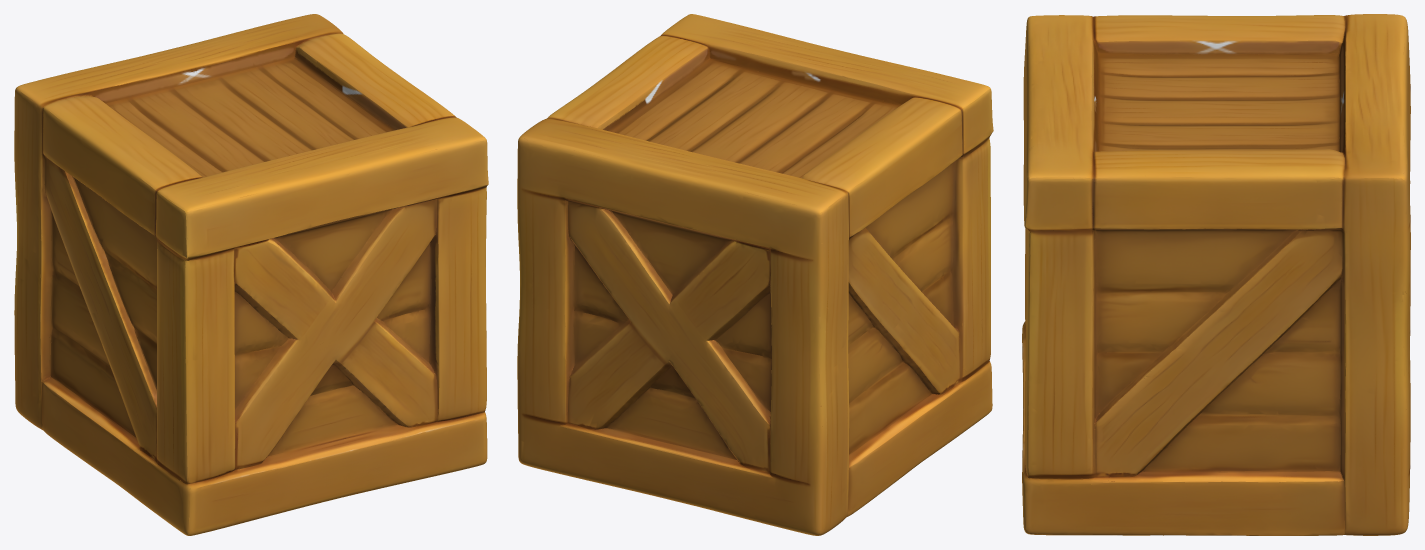
The model's file is base_basic_pbr.fbx.
The picture shows the model from 3 angles, left to right: view 1: azimuth 30°, elevation 25°; view 2: azimuth 150°, elevation 25°; view 3: azimuth 270°, elevation 25°; orthographic projection. The views are drawn at different scales.
Visible parts, largest first — view 1: model; view 2: model; view 3: model.
Boxes of the visible parts, bbox=[...] form: model: bbox=[14, 14, 488, 535]; model: bbox=[517, 14, 993, 535]; model: bbox=[1022, 14, 1410, 535].
Bounding box in the file's own units: 162 × 167 × 161.
Materials: 1 (1 with a texture image).
